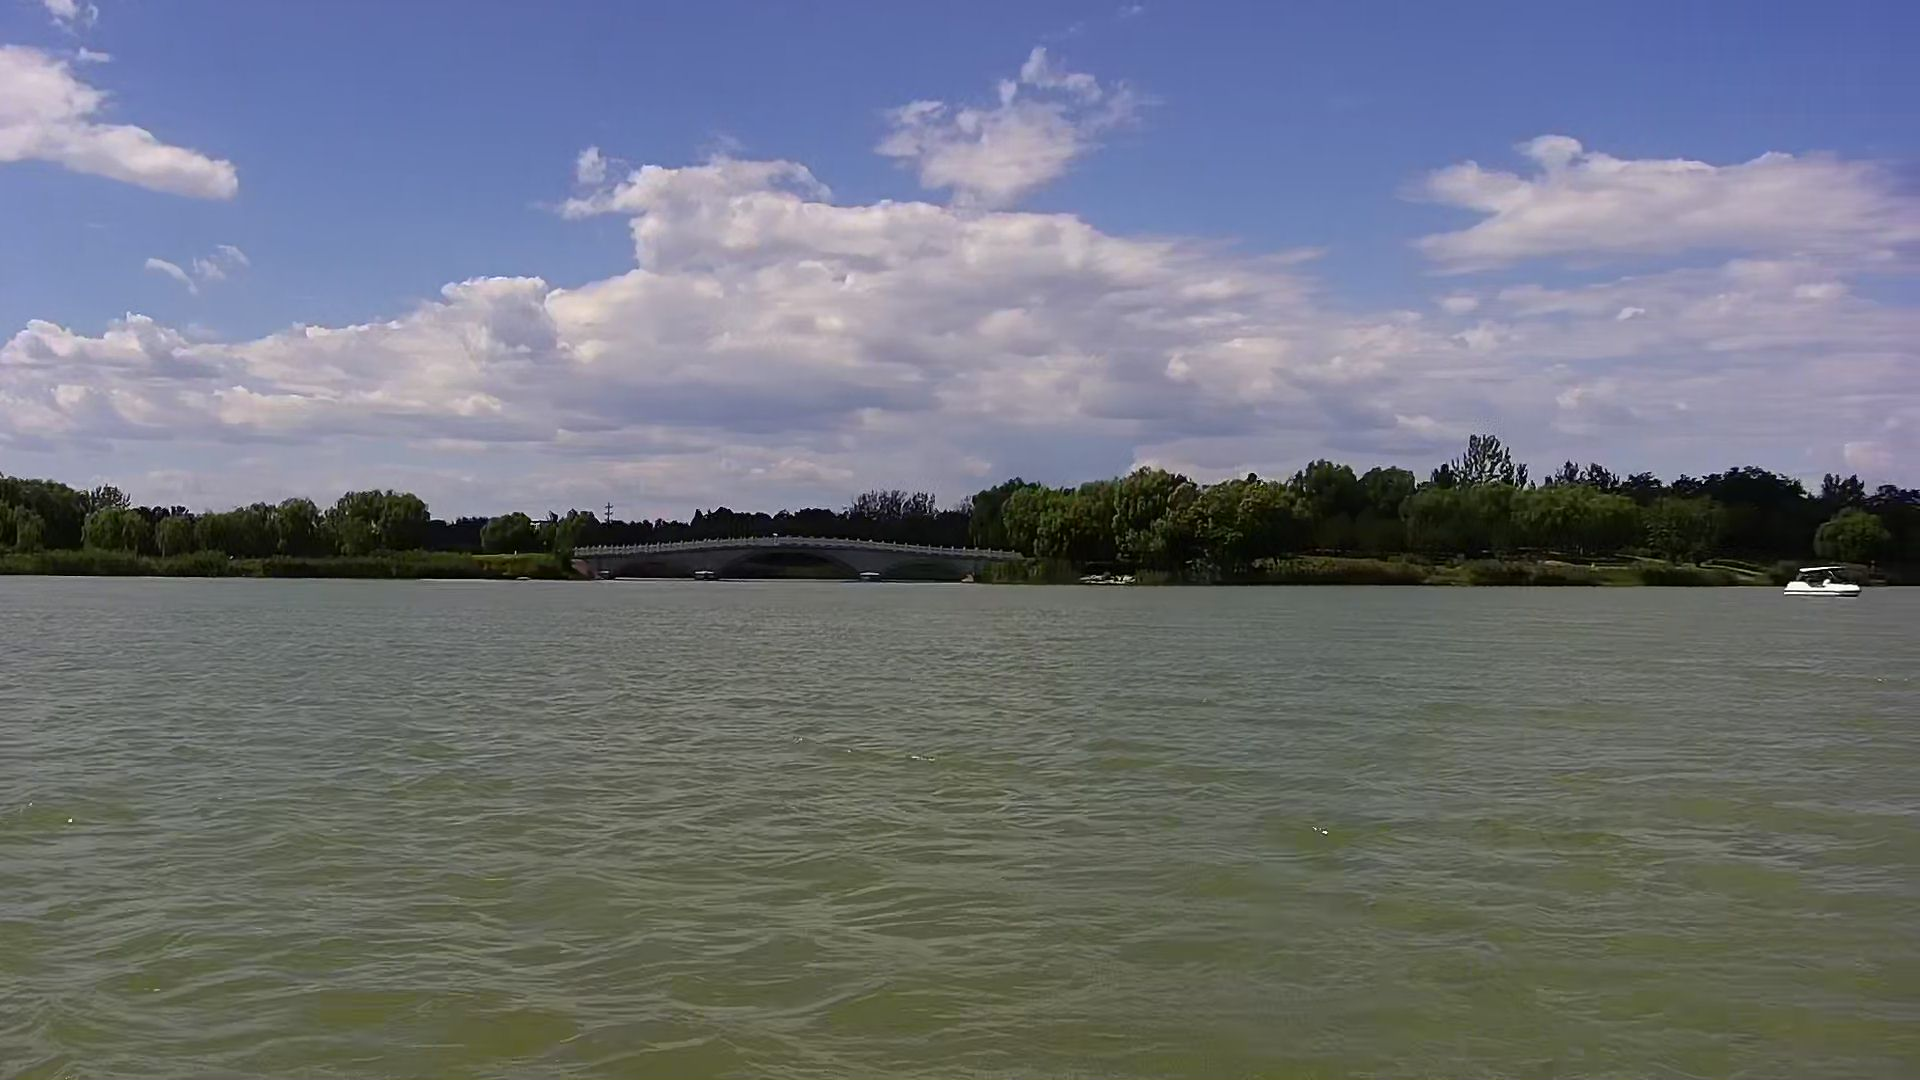boat: (1787, 560, 1867, 607)
bridge: (574, 527, 1033, 584)
